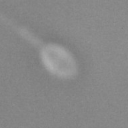normal: (1, 12, 46, 49)
